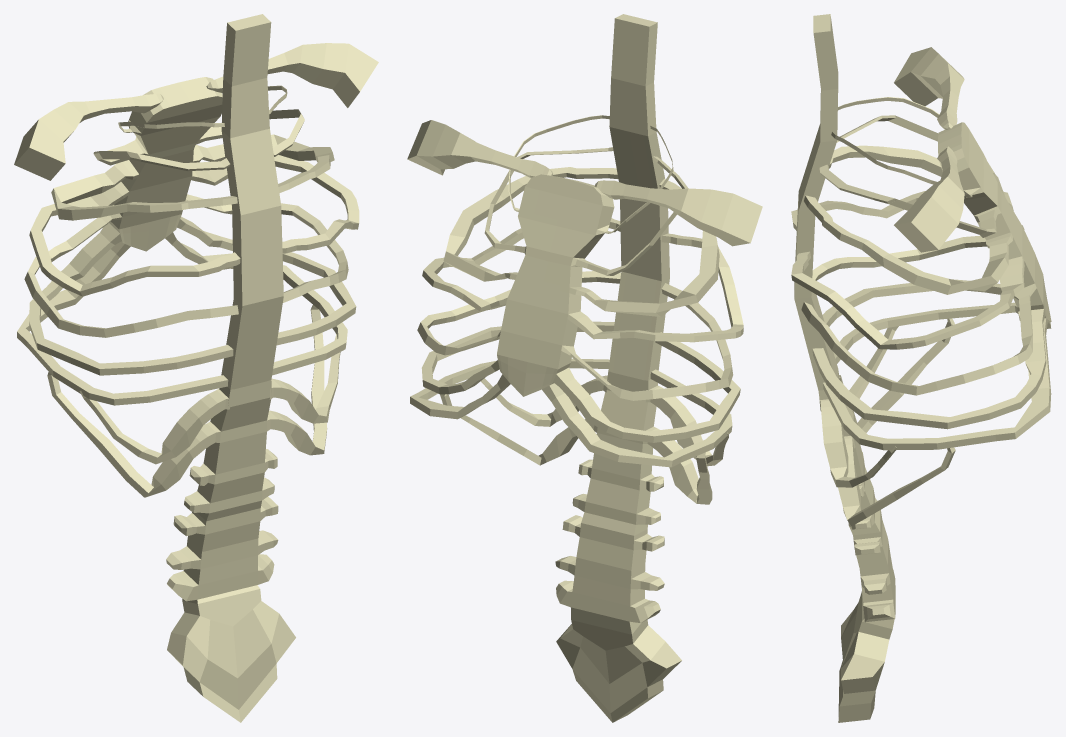
The model's file is skeletonRibCage.obj.
The picture shows the model from 3 angles, left to right: view 1: azimuth 30°, elevation 25°; view 2: azimuth 150°, elevation 25°; view 3: azimuth 270°, elevation 25°; orthographic projection. The views are drawn at different scales.
Visible parts, largest first — view 1: Cube.004_Cube.042; view 2: Cube.004_Cube.042; view 3: Cube.004_Cube.042.
Part boxes in pixels (box(x1,y1,x2,y2)): Cube.004_Cube.042: box(14, 14, 378, 722); Cube.004_Cube.042: box(407, 14, 762, 722); Cube.004_Cube.042: box(791, 14, 1051, 722).
Bounding box in the file's own units: 0.7407 × 1.42 × 0.4783.
1 material, 1 textured.
